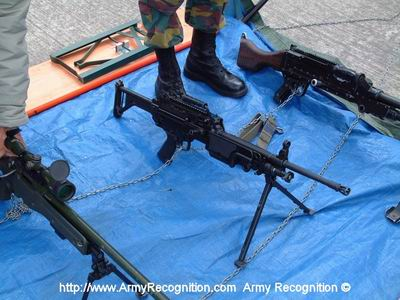rifle: (114, 77, 357, 249)
